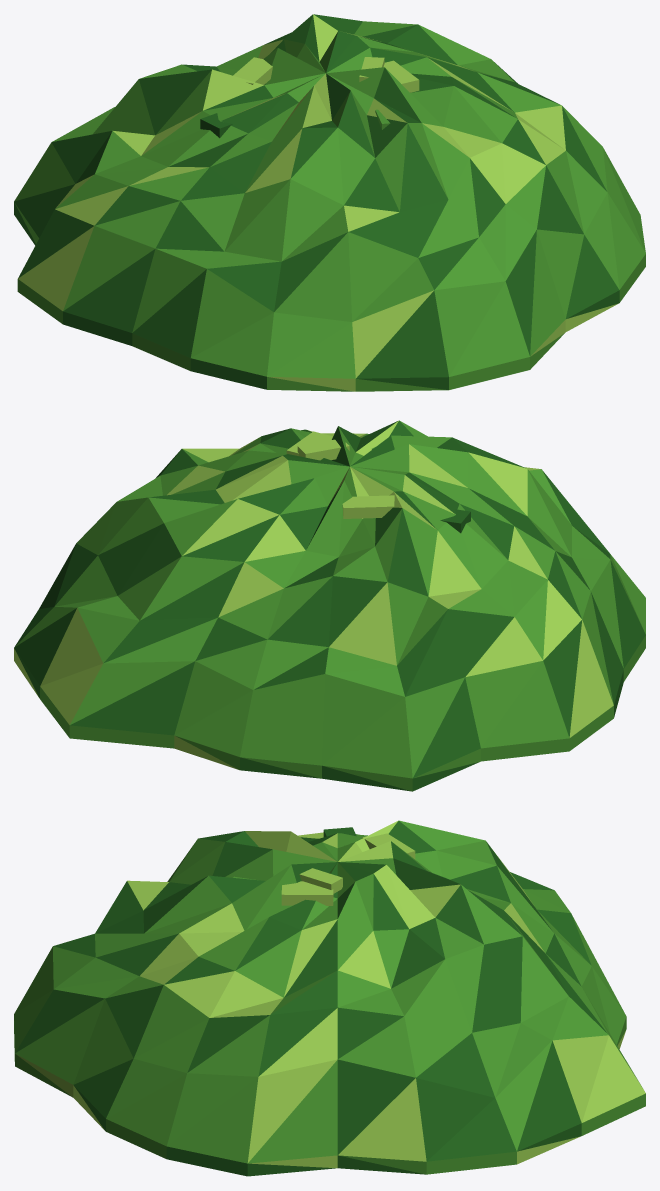
File: Greens.obj
3 views of the same model, one above another, from view 1: azimuth 30°, elevation 25°; view 2: azimuth 150°, elevation 25°; view 3: azimuth 270°, elevation 25° (orthographic).
Visible parts, largest first — view 1: Greens; view 2: Greens; view 3: Greens.
Part boxes in pixels (bbox=[...]): Greens: bbox=[14, 14, 645, 391]; Greens: bbox=[14, 420, 645, 791]; Greens: bbox=[14, 820, 645, 1176].
Size of the model in its own units: 0.1282 by 0.0466 by 0.1333.
